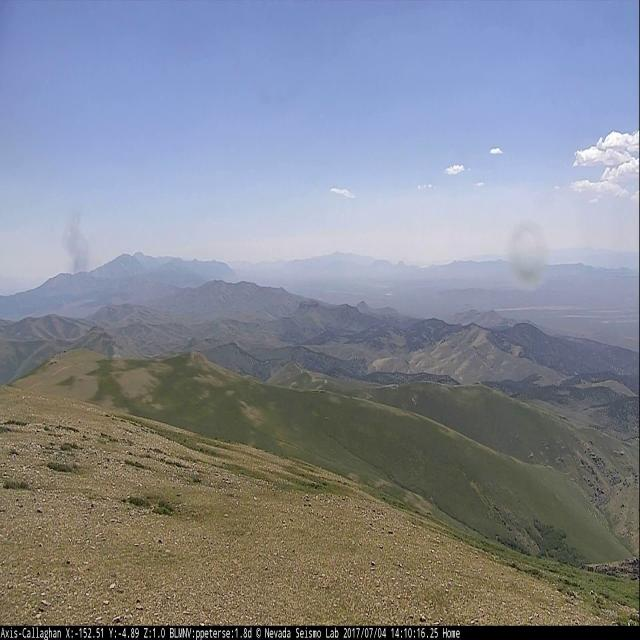smoke: (60, 206, 96, 272)
